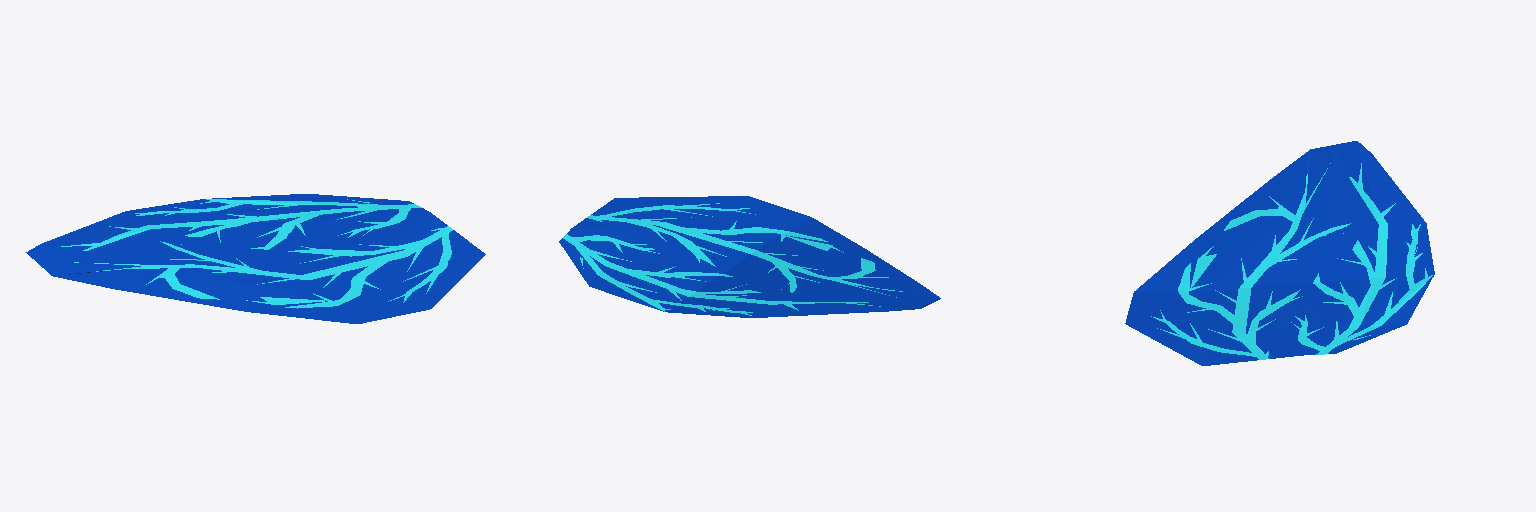
Rendered from BlueButterflyWing.obj.
3 renders of one model, left to right at view 1: azimuth 30°, elevation 25°; view 2: azimuth 150°, elevation 25°; view 3: azimuth 270°, elevation 25°, orthographic.
Parts seen in each view (by area): view 1: LeftWing; view 2: LeftWing; view 3: LeftWing.
Boxes of the visible parts, x1,y1,x2,y2 form: LeftWing: [26, 194, 485, 323]; LeftWing: [559, 196, 940, 317]; LeftWing: [1125, 141, 1434, 365].
Size of the model in its own units: 0.0706 by 0.0077 by 0.0495.